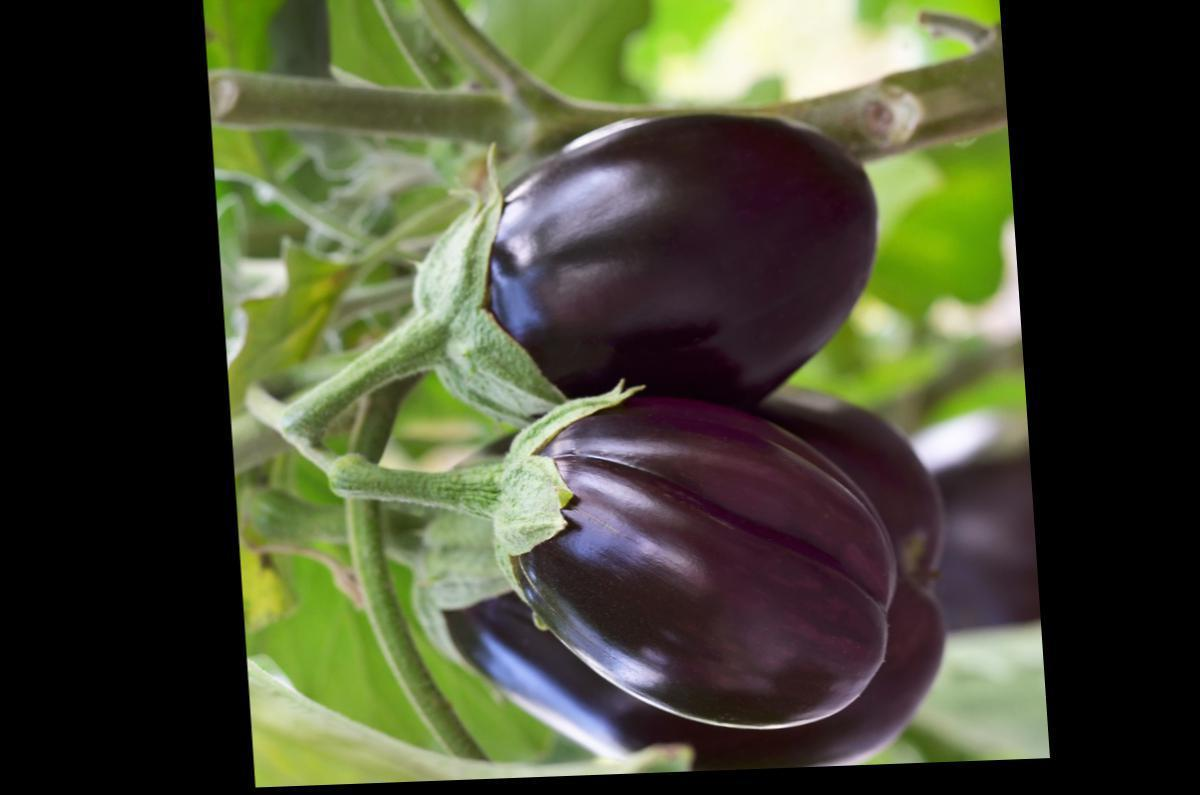eggplant: (206, 34, 920, 788), (293, 308, 988, 785)
